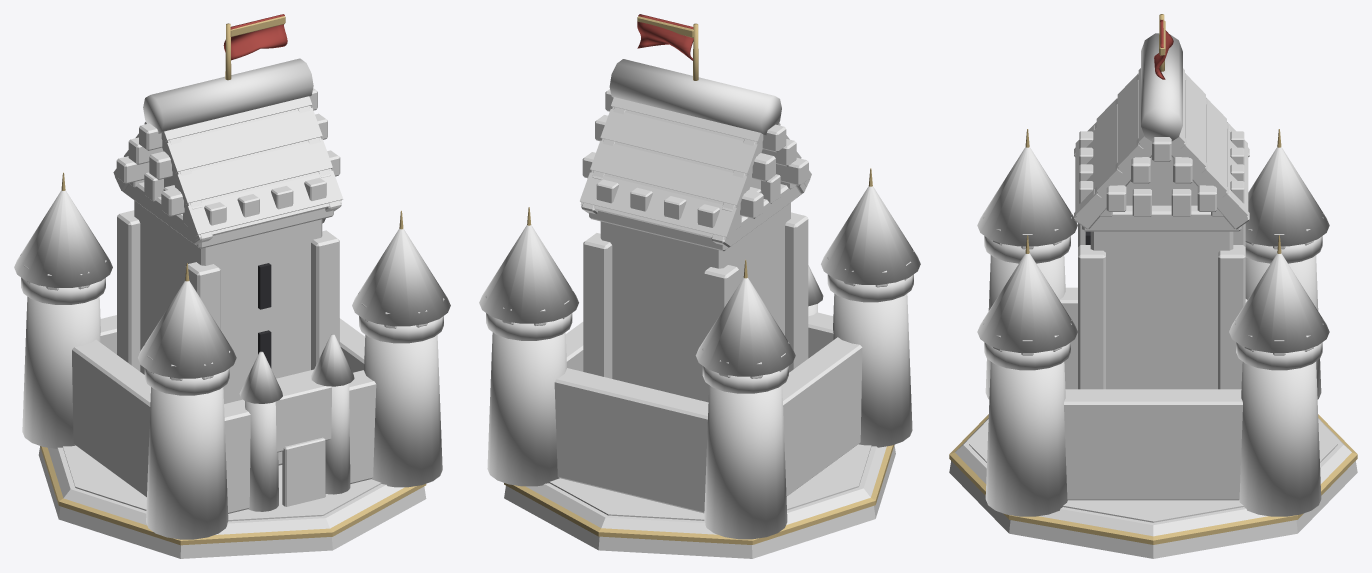
The model's file is pion_capitale.fbx.
The picture shows the model from 3 angles, left to right: view 1: azimuth 30°, elevation 25°; view 2: azimuth 150°, elevation 25°; view 3: azimuth 270°, elevation 25°; orthographic projection.
Parts seen in each view (by area): view 1: pion_capitale_LOD0; view 2: pion_capitale_LOD0; view 3: pion_capitale_LOD0.
Part boxes in pixels (x1,y1,x2,y2): pion_capitale_LOD0: (14,14,450,558); pion_capitale_LOD0: (479,14,920,558); pion_capitale_LOD0: (949,14,1357,558).
Size of what is drawn, in the model's own units: 2.92 by 3.61 by 2.92.
